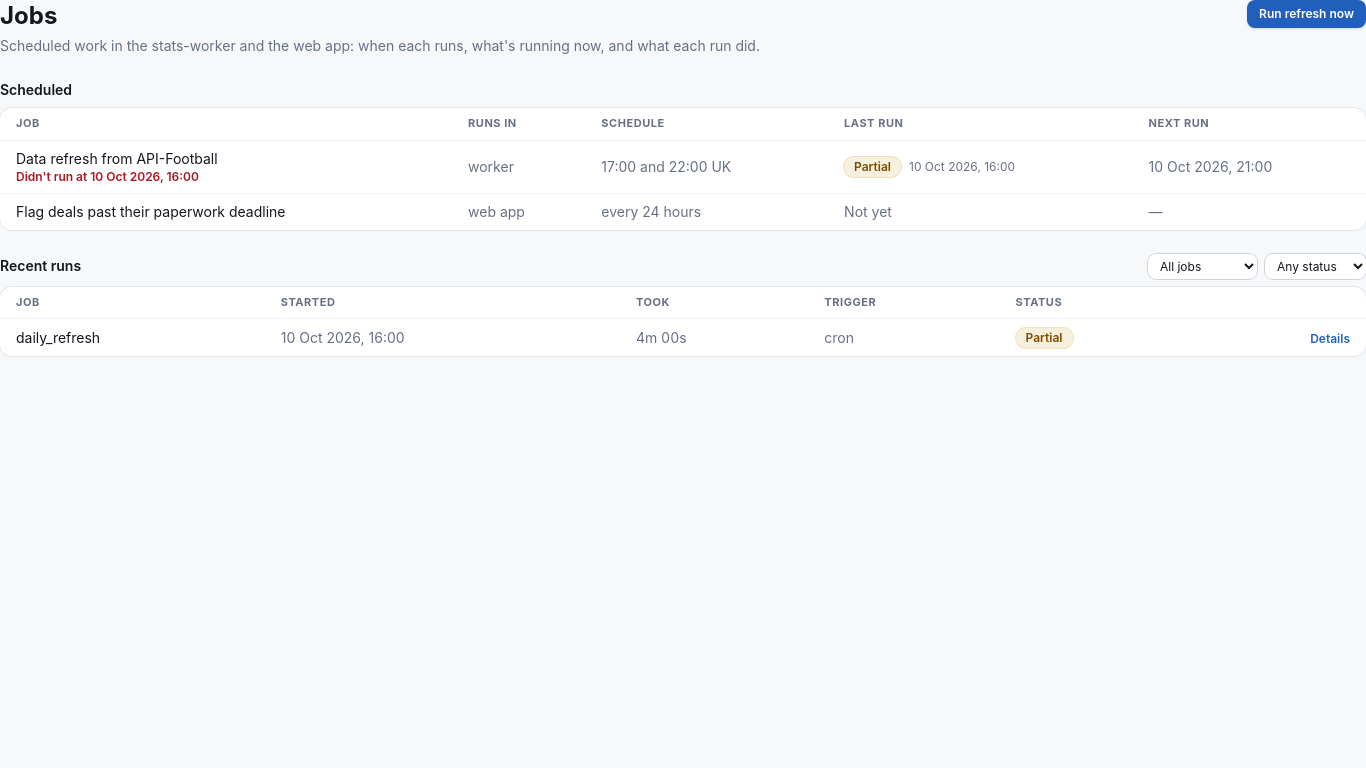
Test: AdminJobsPage › opens a run: summary, what wasn't done, steps and its log
Step 1. Click the button "Details" → (1330,339), box [1310,331,1350,347]
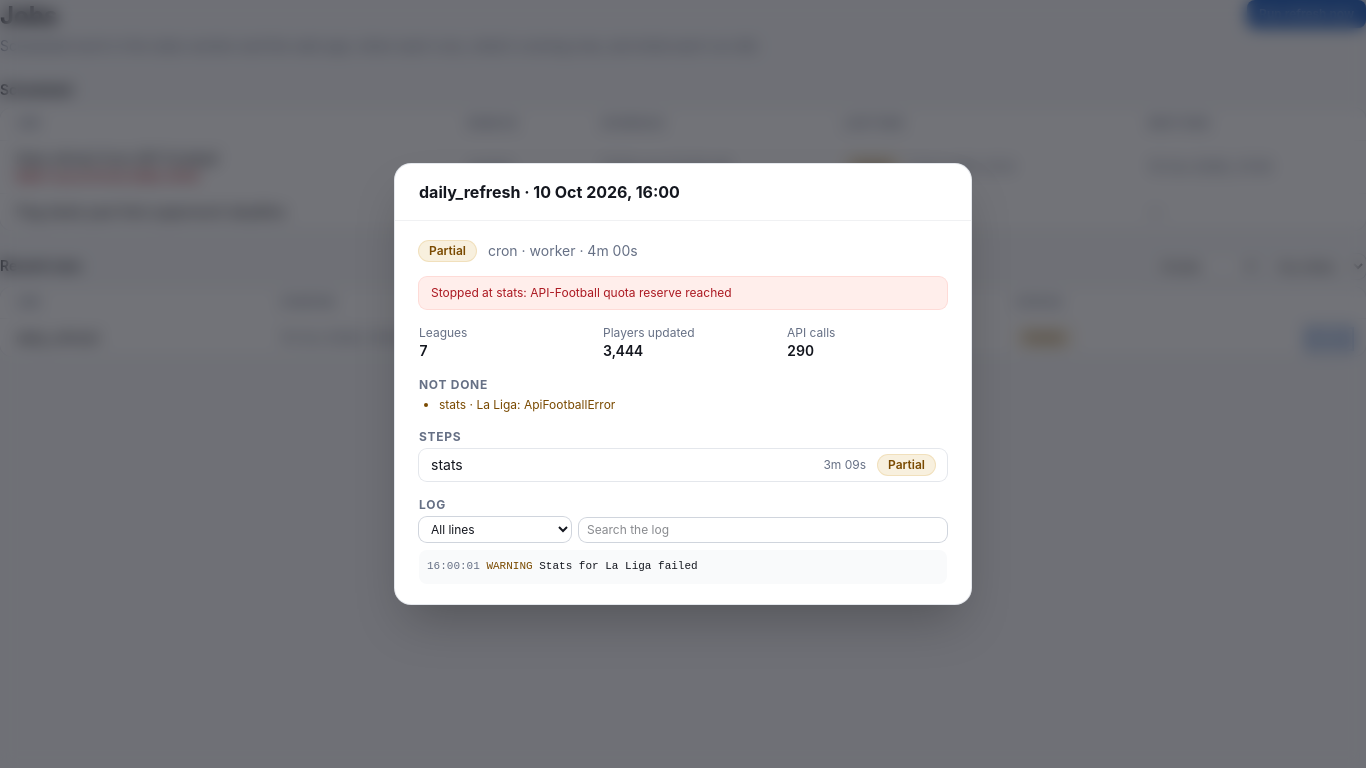
Result: the text "3,444" is shown at [603,342,643,359]
Result: the list item "stats · La Liga: ApiFootballError" is shown at [439,397,615,412]
Result: the text "stats" is shown at [431,455,463,475]
